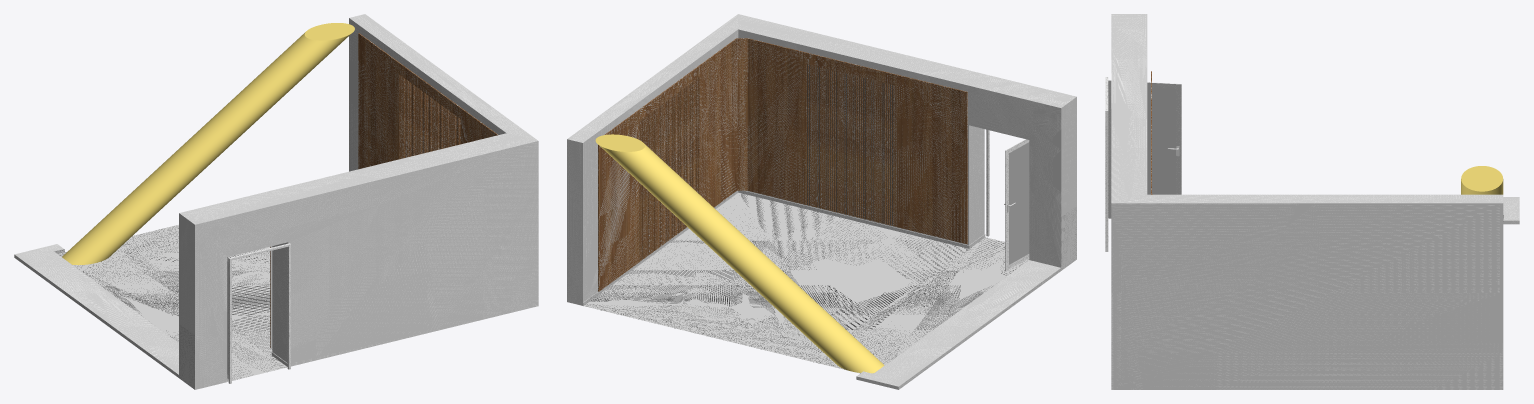
3 renders of one model, left to right at view 1: azimuth 30°, elevation 25°; view 2: azimuth 150°, elevation 25°; view 3: azimuth 270°, elevation 25°, orthographic. The views are drawn at different scales.
Parts seen in each view (by area): view 1: SketchUp.007, SketchUp.005, SketchUp.015, SketchUp.002, SketchUp, SketchUp.003, SketchUp.009, SketchUp.022; view 2: SketchUp, SketchUp.002, SketchUp.005, SketchUp.015, SketchUp.031, SketchUp.003, SketchUp.029, SketchUp.009, SketchUp.004, SketchUp.022, SketchUp.028; view 3: SketchUp.005, SketchUp.029, SketchUp.027, SketchUp.015, SketchUp.022.
Boxes of the visible parts, x1,y1,x2,y2 form: SketchUp.007: [195, 141, 538, 389]; SketchUp.005: [14, 14, 537, 374]; SketchUp.015: [62, 23, 354, 265]; SketchUp.002: [54, 224, 287, 381]; SketchUp: [270, 33, 498, 347]; SketchUp.003: [14, 213, 194, 389]; SketchUp.009: [272, 242, 288, 362]; SketchUp.022: [228, 243, 290, 383]; SketchUp: [598, 38, 967, 291]; SketchUp.002: [584, 192, 1029, 373]; SketchUp.005: [567, 14, 1076, 389]; SketchUp.015: [595, 134, 884, 373]; SketchUp.031: [807, 64, 896, 226]; SketchUp.003: [898, 97, 1076, 389]; SketchUp.029: [1009, 142, 1029, 264]; SketchUp.009: [969, 125, 984, 244]; SketchUp.004: [583, 190, 985, 305]; SketchUp.022: [986, 129, 1025, 270]; SketchUp.028: [1006, 139, 1029, 270]; SketchUp.005: [1111, 14, 1519, 389]; SketchUp.029: [1147, 87, 1175, 194]; SketchUp.027: [1108, 80, 1181, 218]; SketchUp.015: [1461, 166, 1503, 194]; SketchUp.022: [1105, 77, 1181, 251].
Size of the model in its own units: 6.53 by 3 by 6.03.
Materials: 15 (5 with a texture image).
